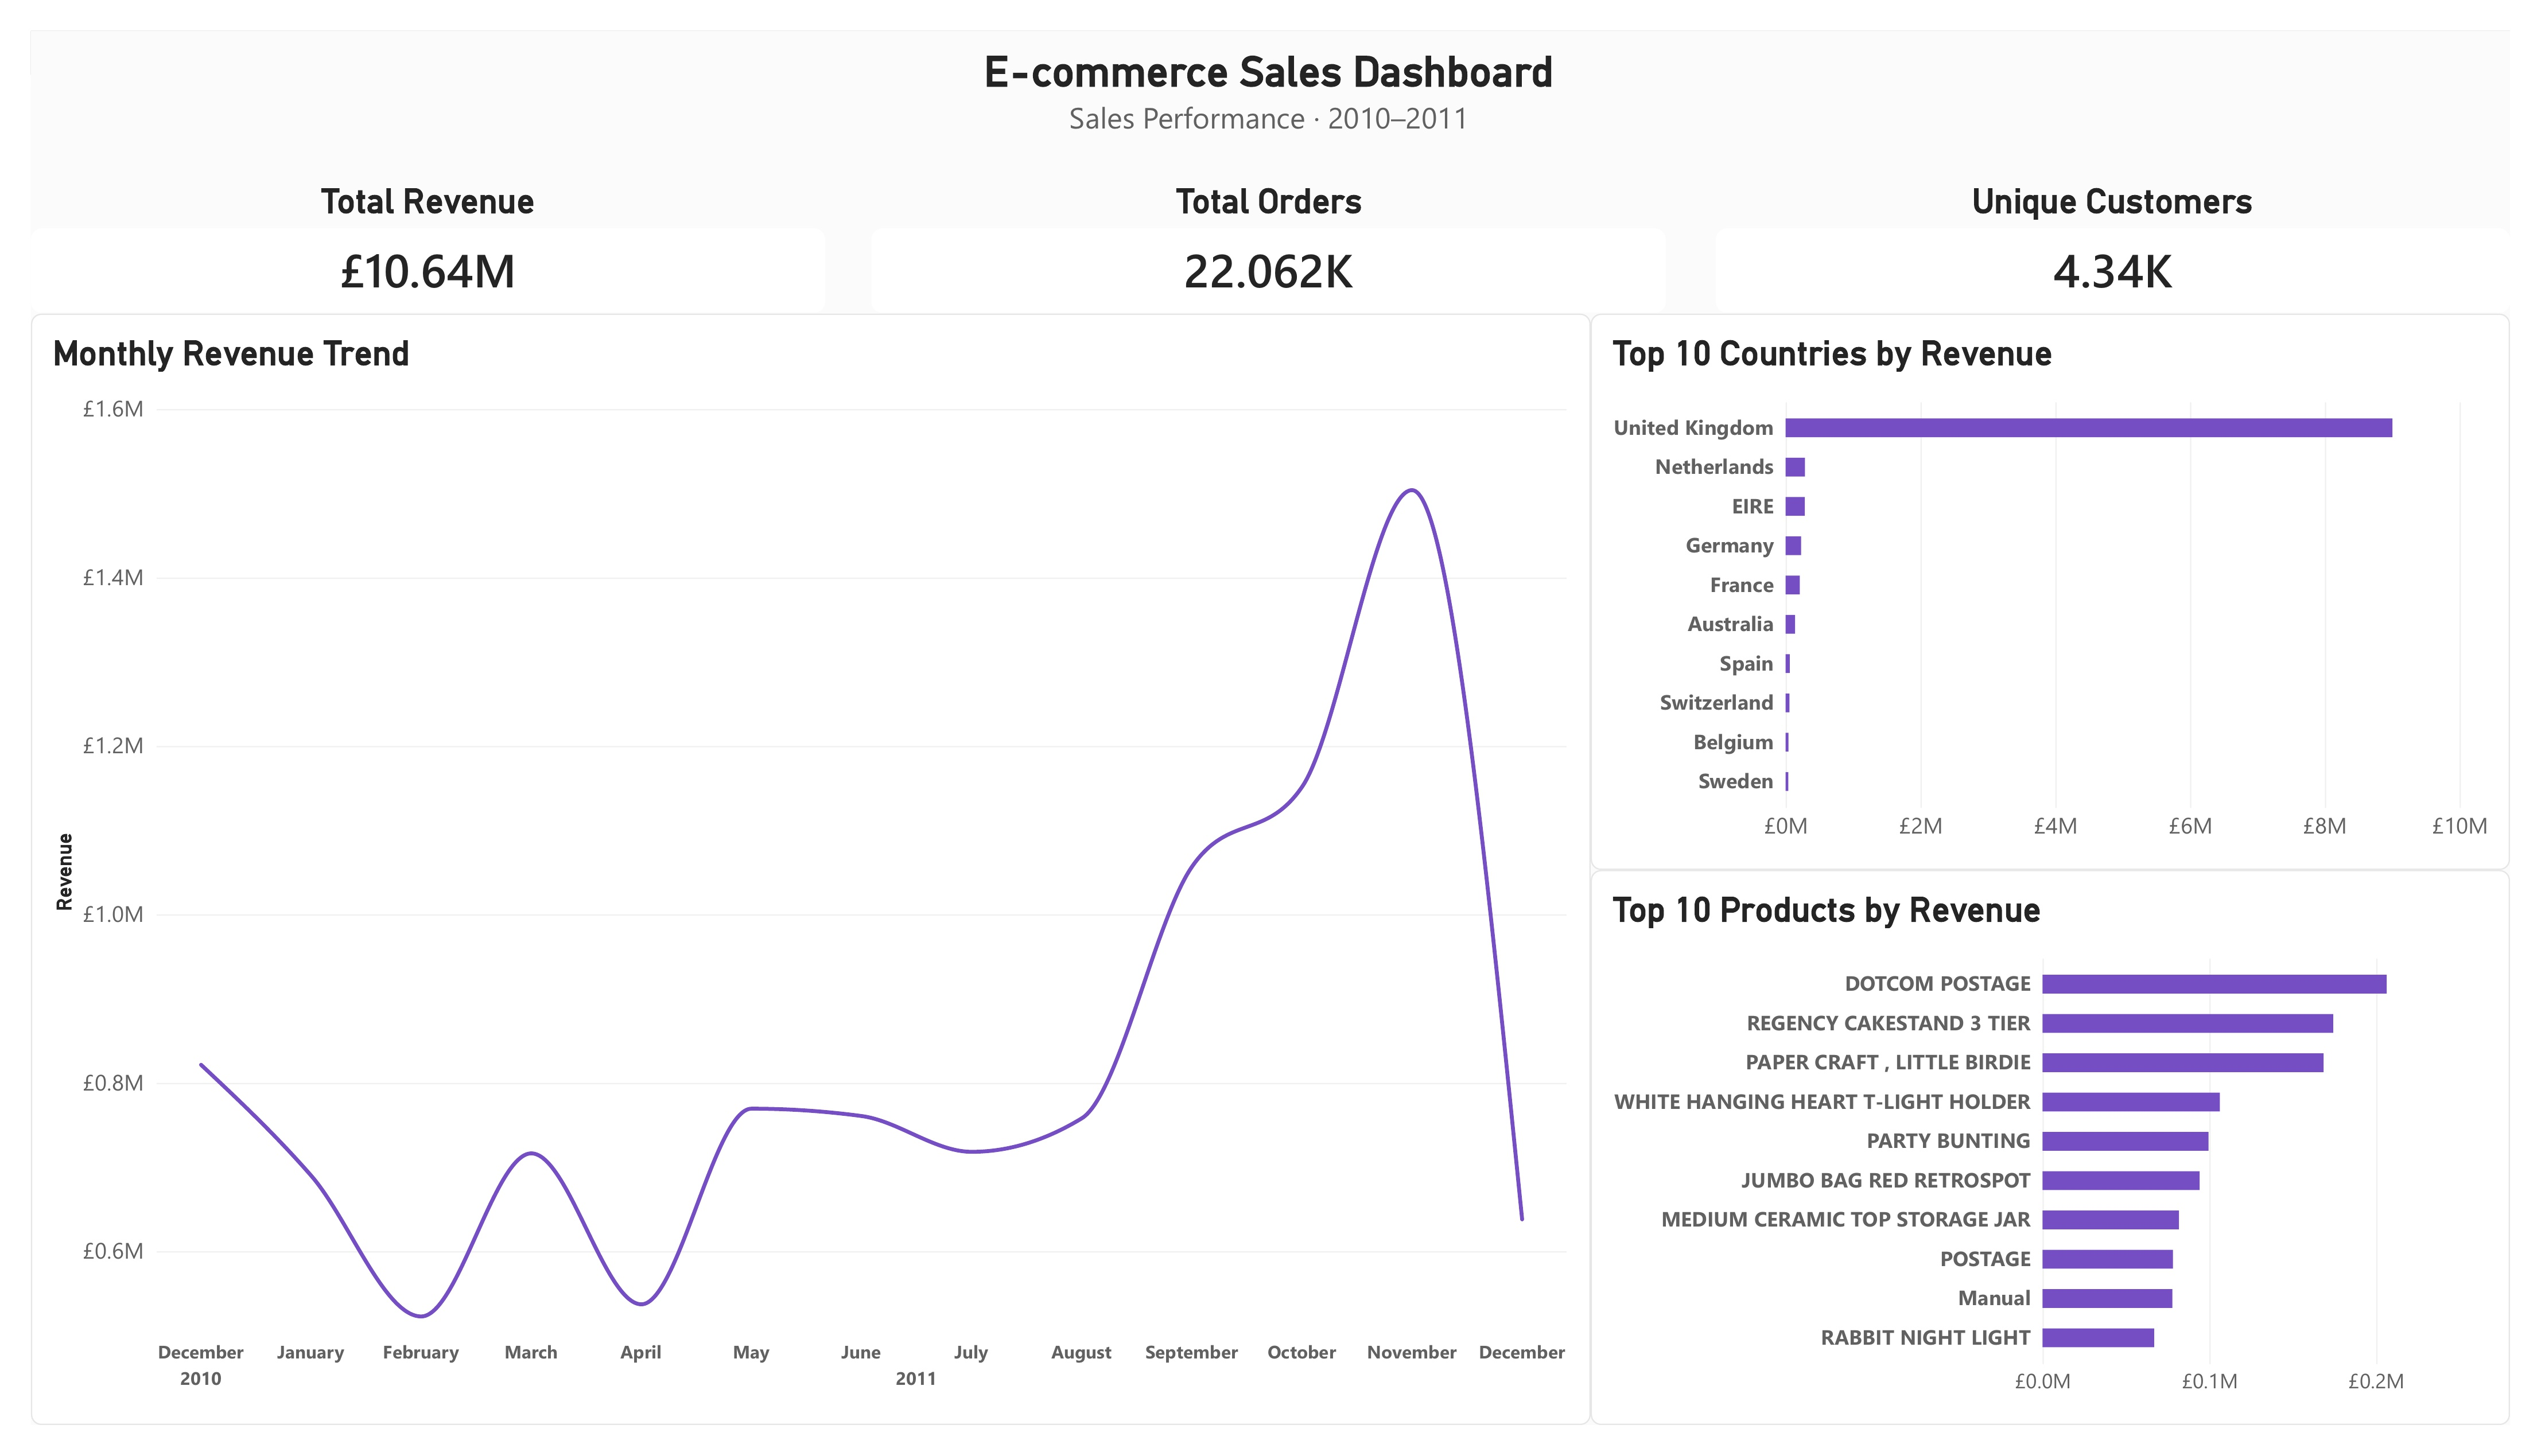

This screenshot's page, from the dashboard's own definition file:
{"tool":"powerbi","page":{"name":"Page 1","canvas":[1920,1080],"ordinal":0},"visuals":[{"type":"lineChart","title":"Monthly Revenue Trend","fields":{"Category":["ecommerce_analysis online_retail_deduplicated.invoicedate.Variation.Date Hierarchy.Year","ecommerce_analysis online_retail_deduplicated.invoicedate.Variation.Date Hierarchy.Month"],"Y":["Sum(ecommerce_analysis online_retail_deduplicated.Revenue)"]},"box":[0,219.4,1207.8,861],"z":0},{"type":"clusteredBarChart","title":"Top 10 Countries by Revenue","fields":{"Category":["ecommerce_analysis online_retail_deduplicated.country"],"Y":["Sum(ecommerce_analysis online_retail_deduplicated.Revenue)"]},"box":[1207.8,219.4,712.6,430.5],"z":1000},{"type":"cardVisual","title":"Total Revenue","fields":{"Data":["Sum(ecommerce_analysis online_retail_deduplicated.Revenue)"]},"box":[0,115.8,615.3,103.2],"z":2000},{"type":"cardVisual","title":"Total Orders","fields":{"Data":["Count(ecommerce_analysis online_retail_deduplicated.invoiceno)"]},"box":[651.5,115.8,615.3,103.2],"z":3000},{"type":"cardVisual","title":"Unique Customers","fields":{"Data":["Count(ecommerce_analysis online_retail_deduplicated.customerid)"]},"box":[1304.8,115.8,615.3,103.2],"z":4000},{"type":"clusteredBarChart","title":"Top 10 Products by Revenue","fields":{"Category":["ecommerce_analysis online_retail_deduplicated.description"],"Y":["Sum(ecommerce_analysis online_retail_deduplicated.Revenue)"]},"box":[1207.8,649.9,712.6,430.5],"z":5000},{"type":"textbox","title":"E-commerce Sales Dashboard","box":[553.8,12.7,810.7,79.6],"z":5001}]}

Visuals, with their boxes in screenshot pixels (x1, y1, x2, y2), scaled from the page's 1920x1080 canvas onto the 2541x1456 screenshot:
"Monthly Revenue Trend" lineChart: bbox=(0, 296, 1598, 1455)
"Top 10 Countries by Revenue" clusteredBarChart: bbox=(1598, 296, 2540, 876)
"Total Revenue" cardVisual: bbox=(0, 156, 814, 295)
"Total Orders" cardVisual: bbox=(862, 156, 1677, 295)
"Unique Customers" cardVisual: bbox=(1727, 156, 2540, 295)
"Top 10 Products by Revenue" clusteredBarChart: bbox=(1598, 876, 2540, 1455)
"E-commerce Sales Dashboard" textbox: bbox=(733, 17, 1806, 124)
